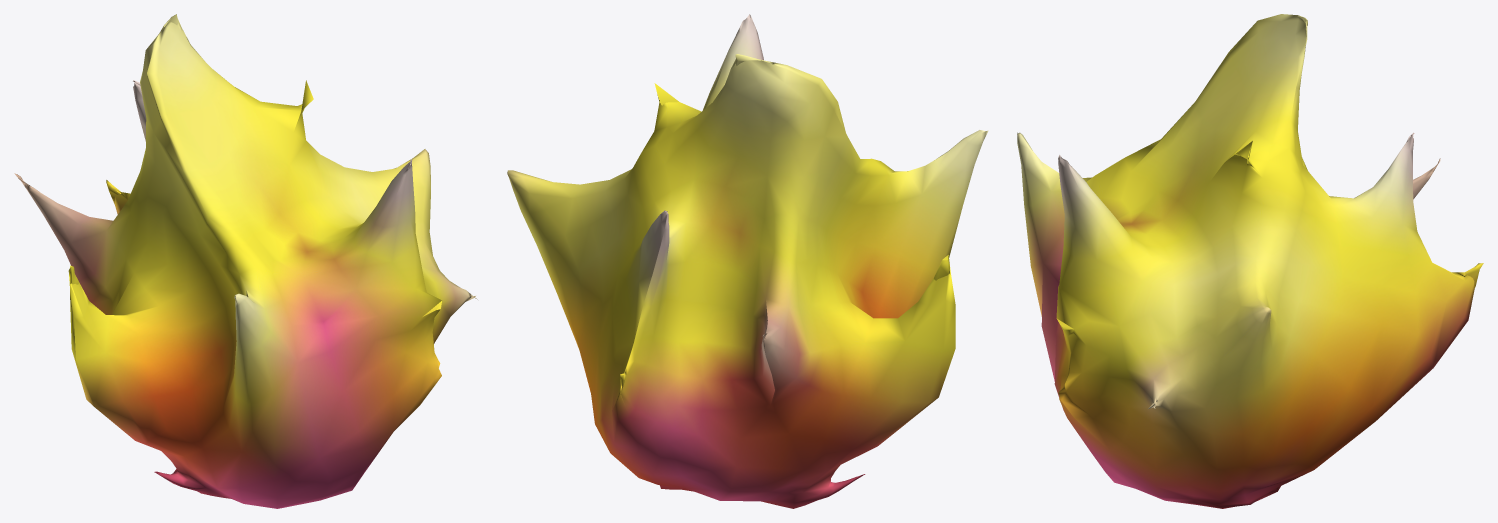
File: fire.obj
The picture shows the model from 3 angles, left to right: view 1: azimuth 30°, elevation 25°; view 2: azimuth 150°, elevation 25°; view 3: azimuth 270°, elevation 25°; orthographic projection. The views are drawn at different scales.
Visible parts, largest first — view 1: PM3D_PolyMesh3D_4; view 2: PM3D_PolyMesh3D_4; view 3: PM3D_PolyMesh3D_4.
Part boxes in pixels (bbox=[...]): PM3D_PolyMesh3D_4: bbox=[14, 14, 477, 508]; PM3D_PolyMesh3D_4: bbox=[507, 14, 988, 508]; PM3D_PolyMesh3D_4: bbox=[1017, 14, 1483, 508].
Size of the model in its own units: 30.84 by 34.13 by 32.51.
